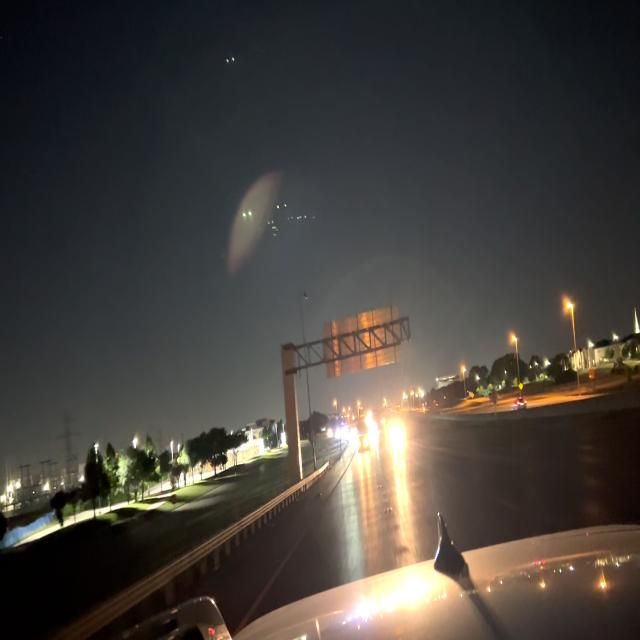back-of-sign: (323, 307, 410, 386)
